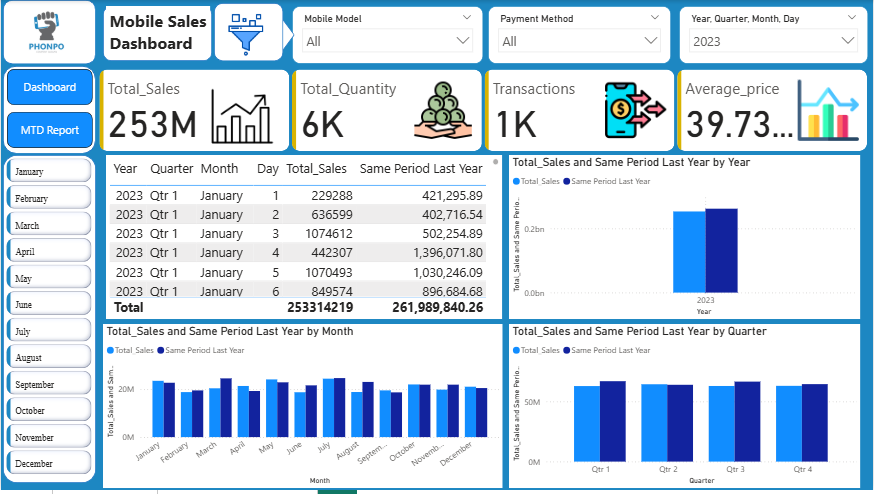

This screenshot's page, from the dashboard's own definition file:
{"tool":"powerbi","page":{"name":"Same Period Last Year","canvas":[1280,720],"ordinal":2},"visuals":[{"type":"shape","box":[3,0,136.2,94.3],"z":0},{"type":"image","box":[0,0,134.7,94.3],"z":1000},{"type":"shape","box":[3,97.3,136.2,128.7],"z":2000},{"type":"shape","box":[2.9,227.8,136.7,482],"z":3000},{"type":"cardVisual","fields":{"Data":["Mobile_Sales_Data.Total_Sales","Mobile_Sales_Data.Total_Quantity","Mobile_Sales_Data.Transactions","Mobile_Sales_Data.Average_price"]},"box":[139.2,97.3,1140.8,130.2],"z":4000},{"type":"slicer","fields":{"Values":["Mobile_Sales_Data.Mobile Model"]},"box":[428.2,9,281.5,85.3],"z":5000},{"type":"slicer","fields":{"Values":["Mobile_Sales_Data.Payment Method"]},"box":[715.6,9,269.5,85.3],"z":6000},{"type":"slicer","fields":{"Values":["Custom_Calender.Date.Variation.Date Hierarchy.Year","Custom_Calender.Date.Variation.Date Hierarchy.Quarter","Custom_Calender.Date.Variation.Date Hierarchy.Month","Custom_Calender.Date.Variation.Date Hierarchy.Day"]},"box":[995.6,9,278.5,85.3],"z":7000},{"type":"shape","box":[383.3,19.5,47.9,64.4],"z":8000},{"type":"shape","box":[312.9,4.5,101.8,85.3],"z":9000},{"type":"image","box":[323.4,15,73.4,73.4],"z":10000},{"type":"shape","box":[149.7,9,160.2,80.8],"z":11000},{"type":"textbox","box":[154.2,9,152.7,74.9],"z":12000},{"type":"tableEx","fields":{"Values":["Custom_Calender.Date.Variation.Date Hierarchy.Year","Custom_Calender.Date.Variation.Date Hierarchy.Quarter","Custom_Calender.Date.Variation.Date Hierarchy.Month","Custom_Calender.Date.Variation.Date Hierarchy.Day","Mobile_Sales_Data.Total_Sales","Mobile_Sales_Data.Same Period Last Year"]},"box":[154.4,227.9,582.4,241.2],"z":14001},{"type":"clusteredColumnChart","fields":{"Category":["Custom_Calender.Date.Variation.Date Hierarchy.Year","Custom_Calender.Date.Variation.Date Hierarchy.Quarter","Custom_Calender.Date.Variation.Date Hierarchy.Month","Custom_Calender.Date.Variation.Date Hierarchy.Day"],"Y":["Mobile_Sales_Data.Total_Sales","Mobile_Sales_Data.Same Period Last Year"]},"box":[747.1,227.9,516.2,241.2],"z":14002},{"type":"clusteredColumnChart","fields":{"Category":["Custom_Calender.Date.Variation.Date Hierarchy.Year","Custom_Calender.Date.Variation.Date Hierarchy.Quarter","Custom_Calender.Date.Variation.Date Hierarchy.Month","Custom_Calender.Date.Variation.Date Hierarchy.Day"],"Y":["Mobile_Sales_Data.Total_Sales","Mobile_Sales_Data.Same Period Last Year"]},"box":[747.1,476.5,516.2,241.2],"z":14003},{"type":"clusteredColumnChart","fields":{"Category":["Custom_Calender.Date.Variation.Date Hierarchy.Year","Custom_Calender.Date.Variation.Date Hierarchy.Quarter","Custom_Calender.Date.Variation.Date Hierarchy.Month","Custom_Calender.Date.Variation.Date Hierarchy.Day"],"Y":["Mobile_Sales_Data.Total_Sales","Mobile_Sales_Data.Same Period Last Year"]},"box":[150,476.5,586.8,241.2],"z":14004},{"type":"advancedSlicerVisual","fields":{"Values":["Custom_Calender.Date.Variation.Date Hierarchy.Month"]},"box":[2.9,227.9,135.3,482.4],"z":14005},{"type":"pageNavigator","box":[8.8,101.5,126.5,117.6],"z":14006}]}

Visuals, with their boxes in screenshot pixels (x1, y1, x2, y2):
shape: rect(4, 0, 96, 63)
image: rect(2, 0, 93, 63)
shape: rect(4, 66, 96, 152)
shape: rect(4, 153, 96, 478)
cardVisual - Mobile_Sales_Data.Total_Sales x Mobile_Sales_Data.Total_Quantity: rect(96, 66, 864, 153)
slicer - Mobile_Sales_Data.Mobile Model: rect(291, 6, 480, 63)
slicer - Mobile_Sales_Data.Payment Method: rect(484, 6, 666, 63)
slicer - Custom_Calender.Date.Variation.Date Hierarchy.Year x Custom_Calender.Date.Variation.Date Hierarchy.Quarter: rect(673, 6, 860, 63)
shape: rect(260, 13, 293, 56)
shape: rect(213, 3, 282, 60)
image: rect(220, 10, 269, 60)
shape: rect(103, 6, 211, 60)
textbox: rect(106, 6, 209, 56)
tableEx - Custom_Calender.Date.Variation.Date Hierarchy.Year x Custom_Calender.Date.Variation.Date Hierarchy.Quarter: rect(106, 153, 498, 316)
clusteredColumnChart - Custom_Calender.Date.Variation.Date Hierarchy.Year x Custom_Calender.Date.Variation.Date Hierarchy.Quarter: rect(505, 153, 853, 316)
clusteredColumnChart - Custom_Calender.Date.Variation.Date Hierarchy.Year x Custom_Calender.Date.Variation.Date Hierarchy.Quarter: rect(505, 321, 853, 483)
clusteredColumnChart - Custom_Calender.Date.Variation.Date Hierarchy.Year x Custom_Calender.Date.Variation.Date Hierarchy.Quarter: rect(103, 321, 498, 483)
advancedSlicerVisual - Custom_Calender.Date.Variation.Date Hierarchy.Month: rect(4, 153, 95, 478)
pageNavigator: rect(8, 68, 93, 148)
